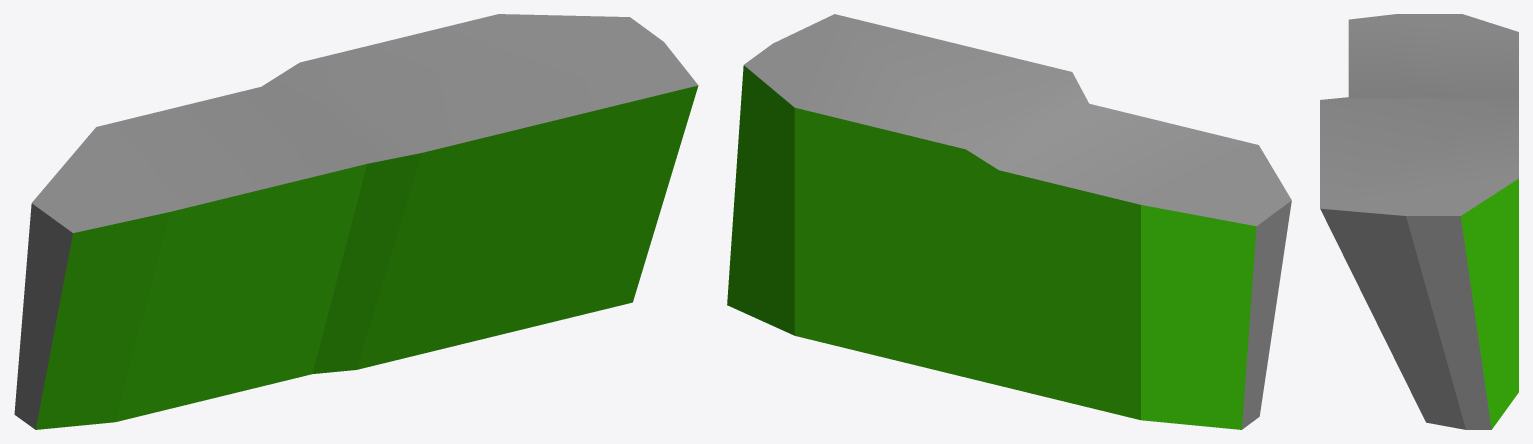
Rendered from SMB_groundS_B.fbx.
The picture shows the model from 3 angles, left to right: view 1: azimuth 30°, elevation 25°; view 2: azimuth 150°, elevation 25°; view 3: azimuth 270°, elevation 25°; orthographic projection. The views are drawn at different scales.
Visible parts, largest first — view 1: SMB_groundS_B; view 2: SMB_groundS_B; view 3: SMB_groundS_B.
Boxes of the visible parts, box(x1,y1,x2,y2) form: SMB_groundS_B: box(14, 14, 698, 429); SMB_groundS_B: box(727, 14, 1291, 429); SMB_groundS_B: box(1320, 14, 1518, 429).
Size of the model in its own units: 2496 by 1059 by 891.
